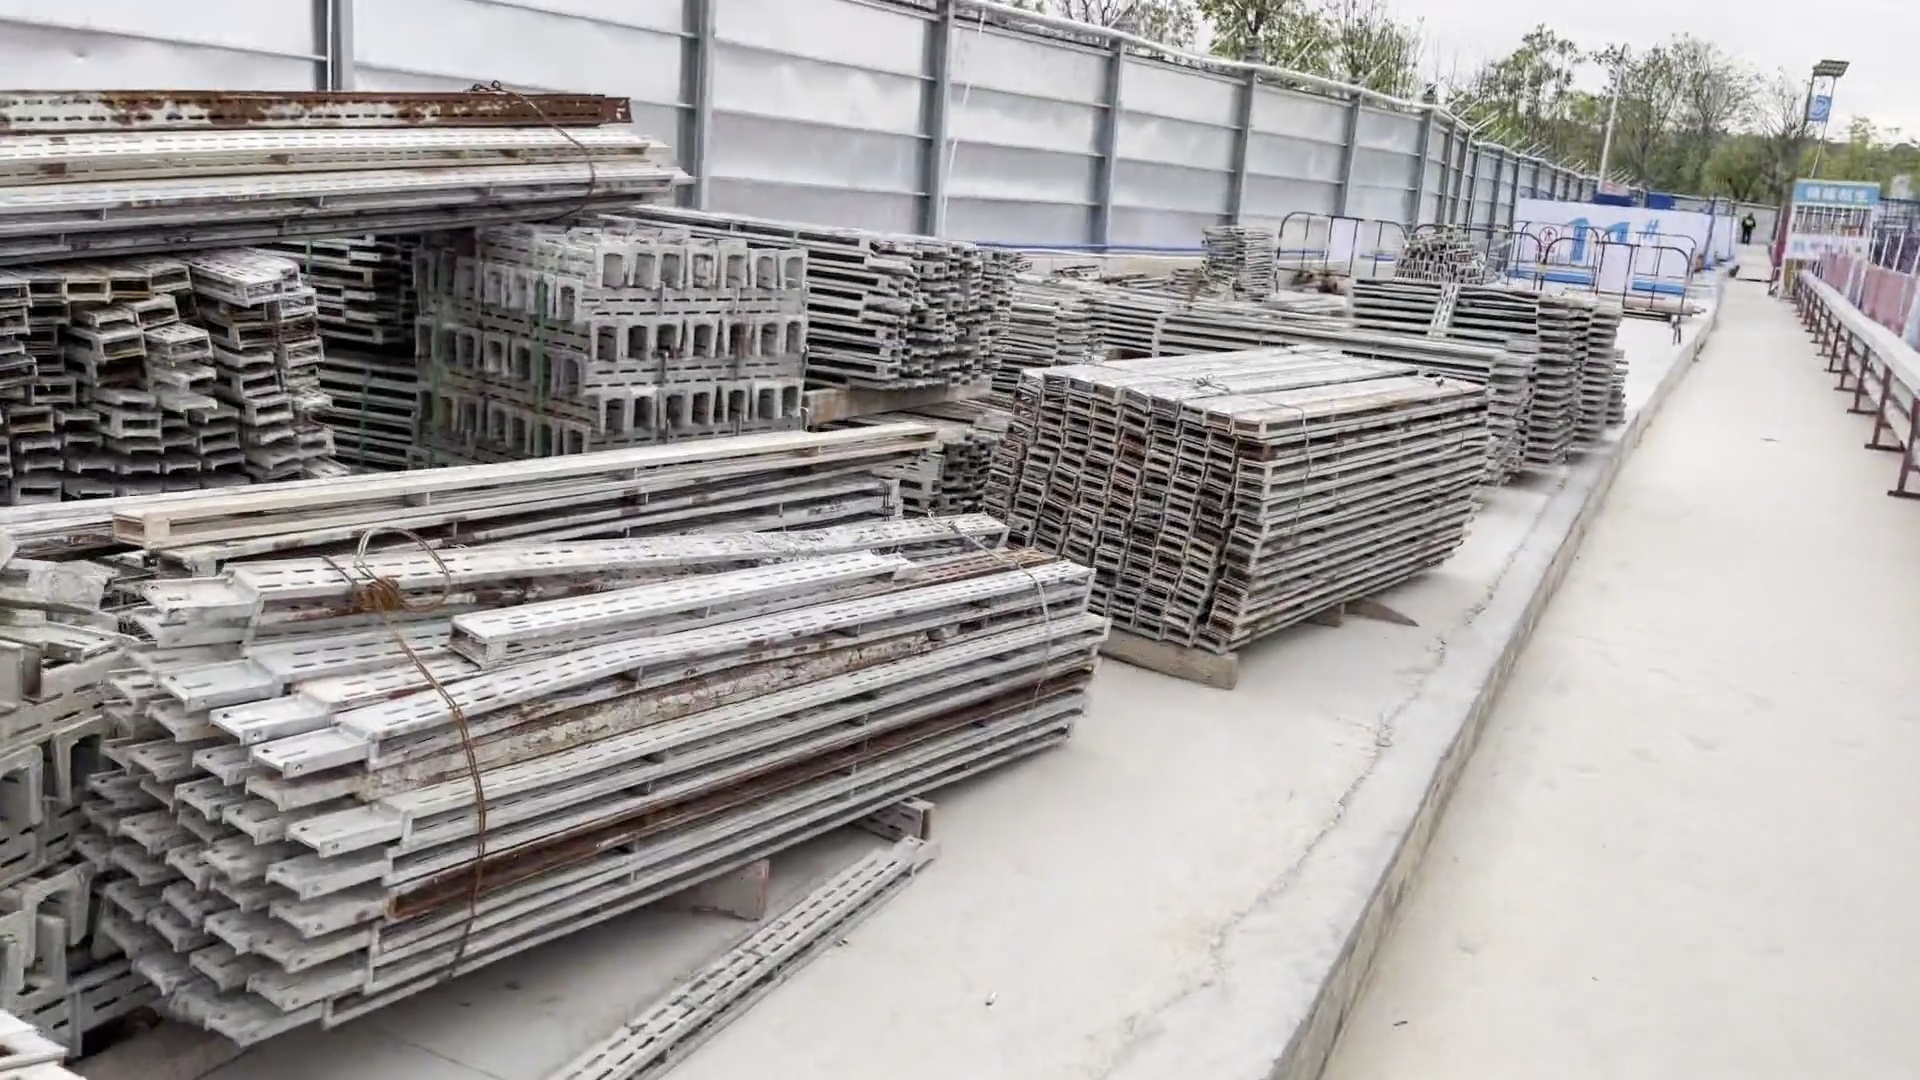fence: (1279, 211, 1691, 328), (1817, 245, 1920, 356)
person: (1739, 207, 1760, 246)
slogan: (1800, 182, 1879, 216), (1792, 234, 1876, 265), (1798, 93, 1837, 138)
vest: (1742, 215, 1758, 228)
